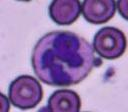N: (32, 30, 94, 86)
